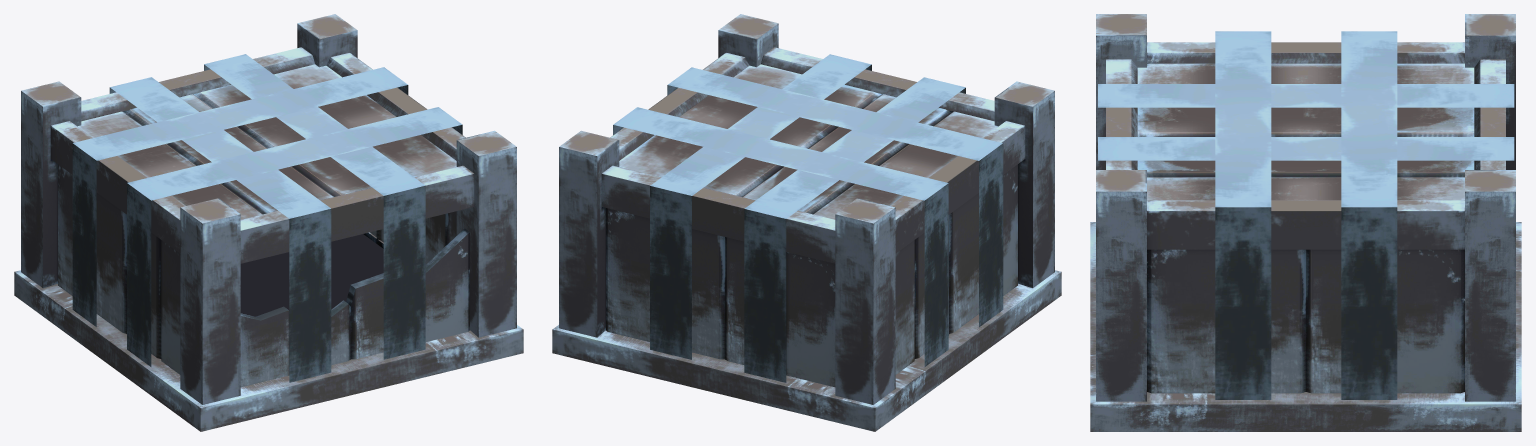
File: S_icewild_wood.fbx
3 views of the same model, side by side, from view 1: azimuth 30°, elevation 25°; view 2: azimuth 150°, elevation 25°; view 3: azimuth 270°, elevation 25° (orthographic). The views are drawn at different scales.
Parts seen in each view (by area): view 1: S_icewild_wood; view 2: S_icewild_wood; view 3: S_icewild_wood.
Boxes of the visible parts, x1,y1,x2,y2 form: S_icewild_wood: (14, 14, 523, 431); S_icewild_wood: (552, 14, 1061, 431); S_icewild_wood: (1090, 14, 1521, 431).
Size of the model in its own units: 0.7027 by 0.434 by 0.7027.
Materials: 1 (1 with a texture image).
